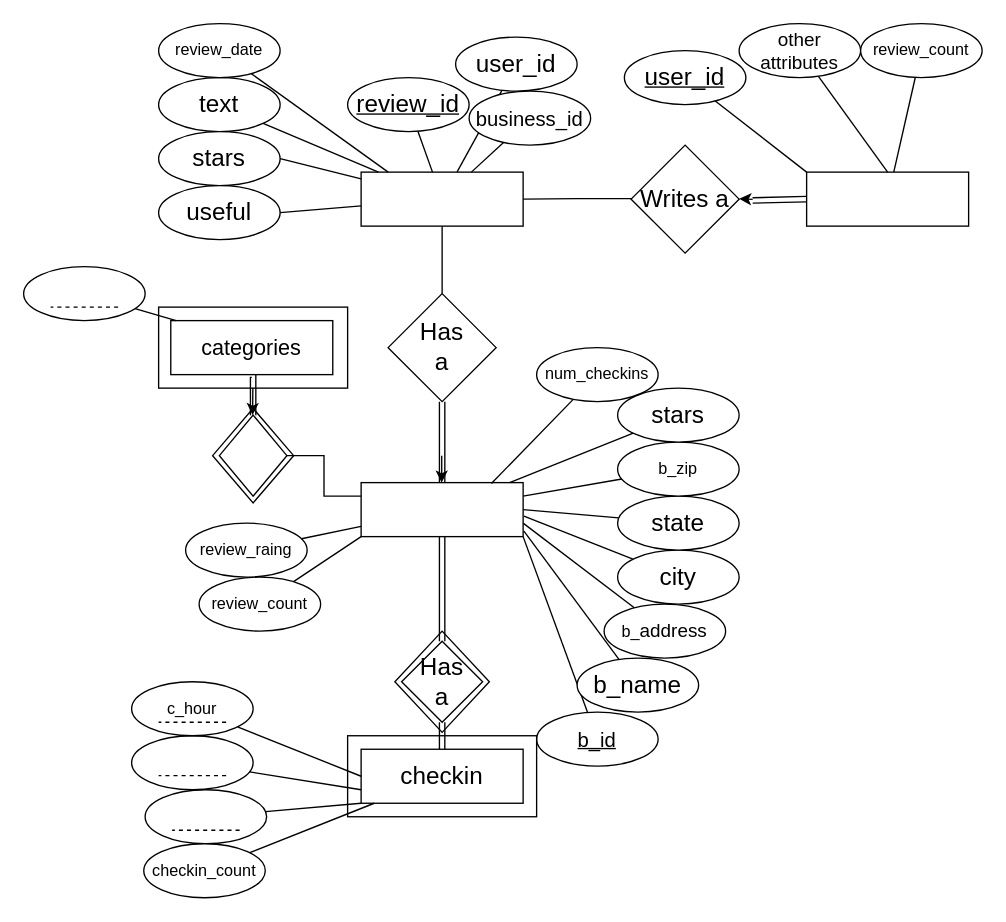
Image size: 1006x922. Some labels were removed from this diagram. Each missing label, with the centre of its shape:
"biz_id" goes at point (205, 816).
"Business" goes at point (441, 509).
"category" goes at point (83, 293).
"day_of_week" goes at point (191, 762).
"Has" goes at point (252, 455).
"review" goes at point (441, 198).
"user" goes at point (887, 198).
